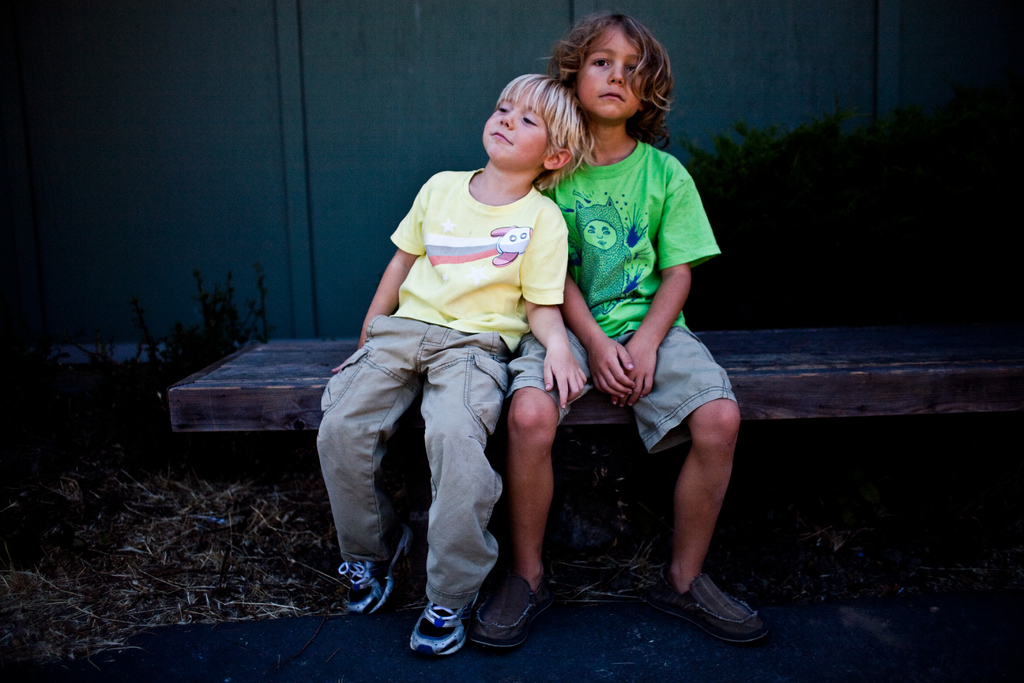Human_hand: (543, 346, 589, 411), (616, 331, 656, 405), (331, 345, 358, 376)
